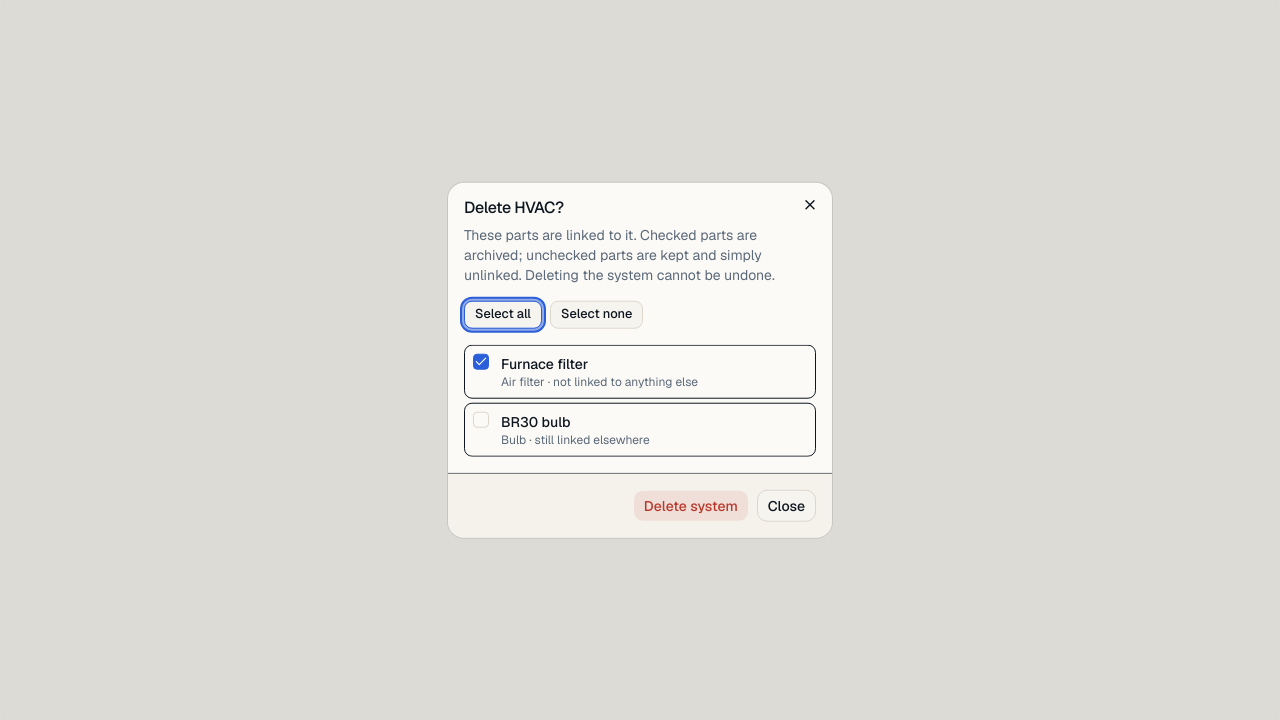
it: DeleteSystemPartsDialog › blocks a second confirm while the first is in flight, and re-enables after
What coordinates should you click on to do the following:
click the button with test id "delete-system-confirm"
I would click on:
 (691, 505)
Its box is [633,489,749,521].
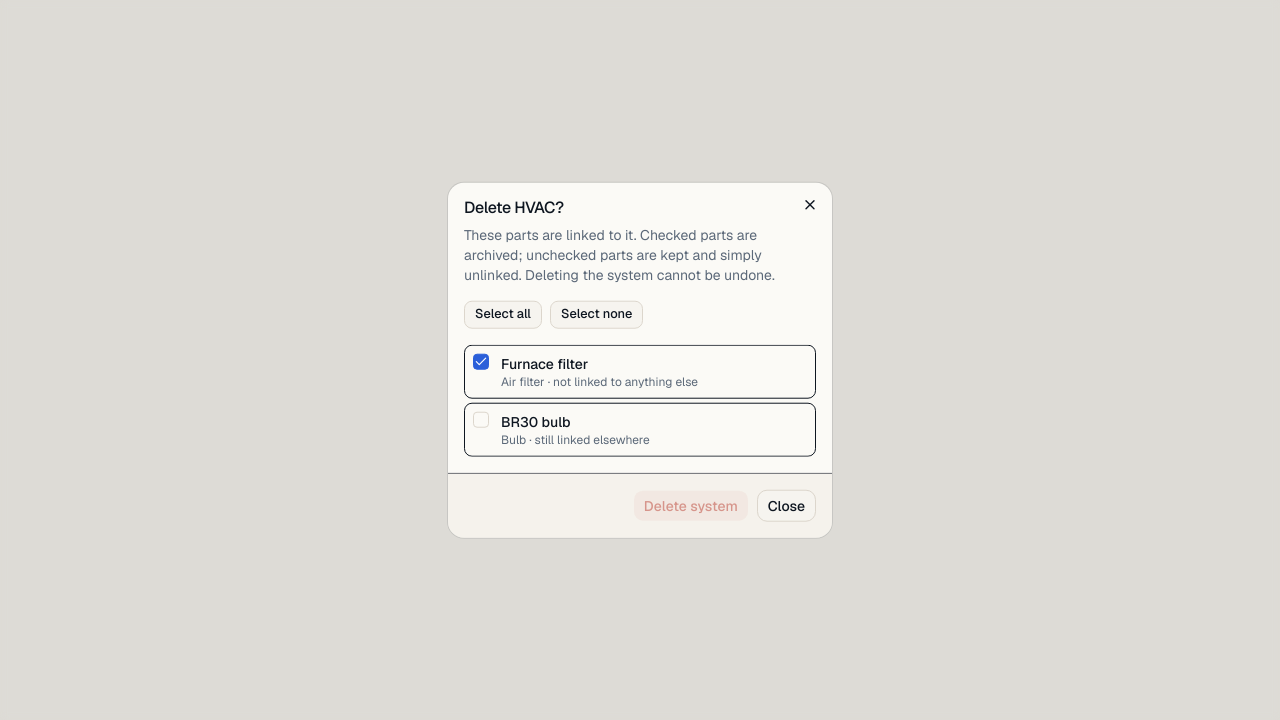
Expected: the button with test id "delete-system-confirm" is disabled
Note: Dropped, not queued: userEvent does not throw on a disabled control.
What coordinates should you click on to do the following:
click the button with test id "delete-system-confirm"
I would click on:
 (691, 505)
Its box is [633,489,749,521].
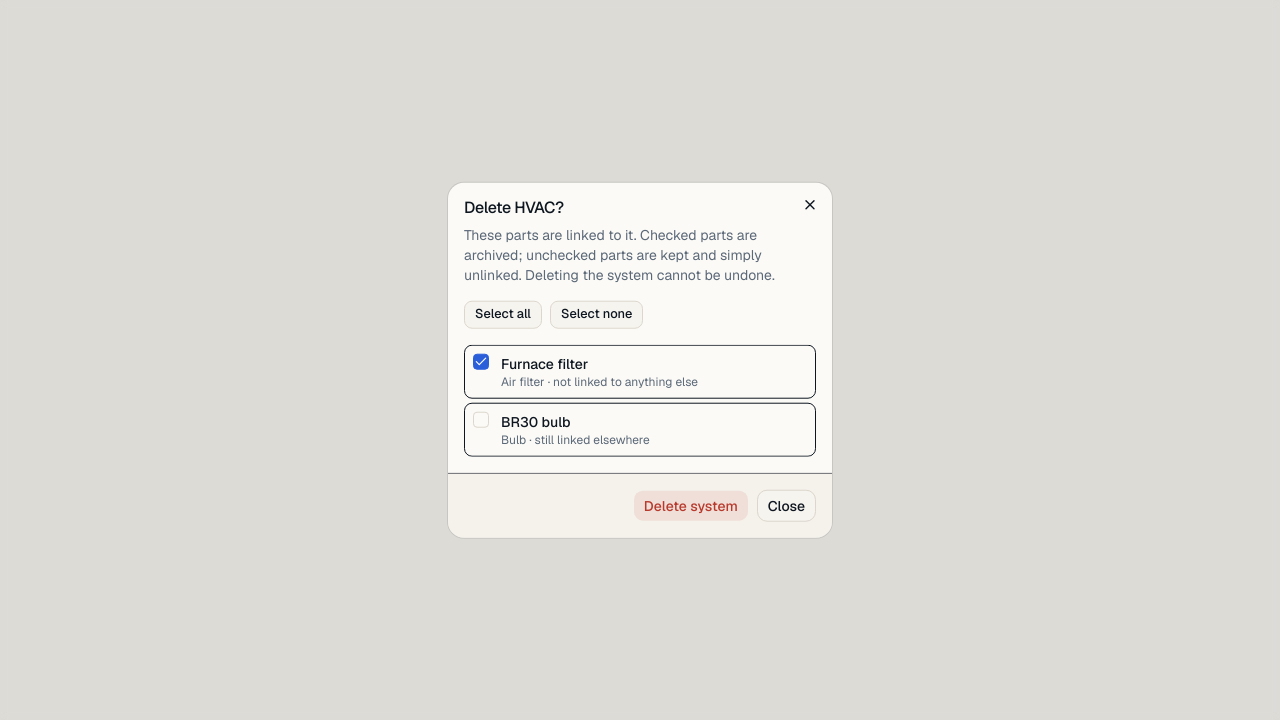
Expected: the button with test id "delete-system-confirm" is enabled, [633,489,749,521]
